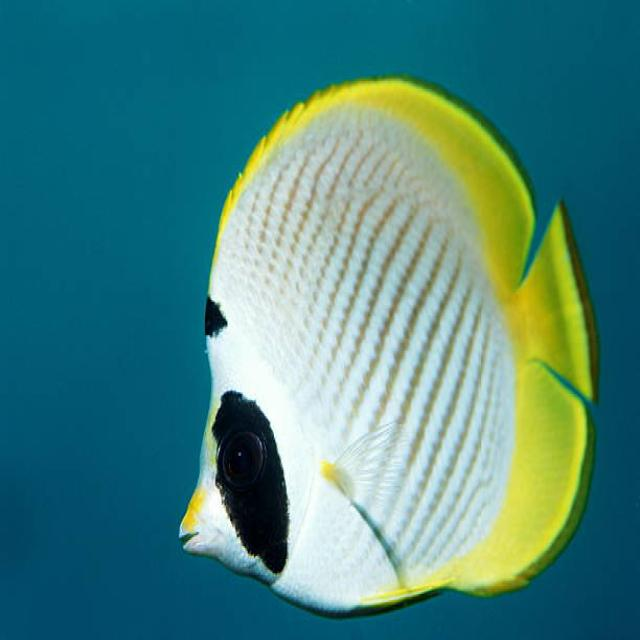ButterflyFish: (179, 73, 598, 622)
